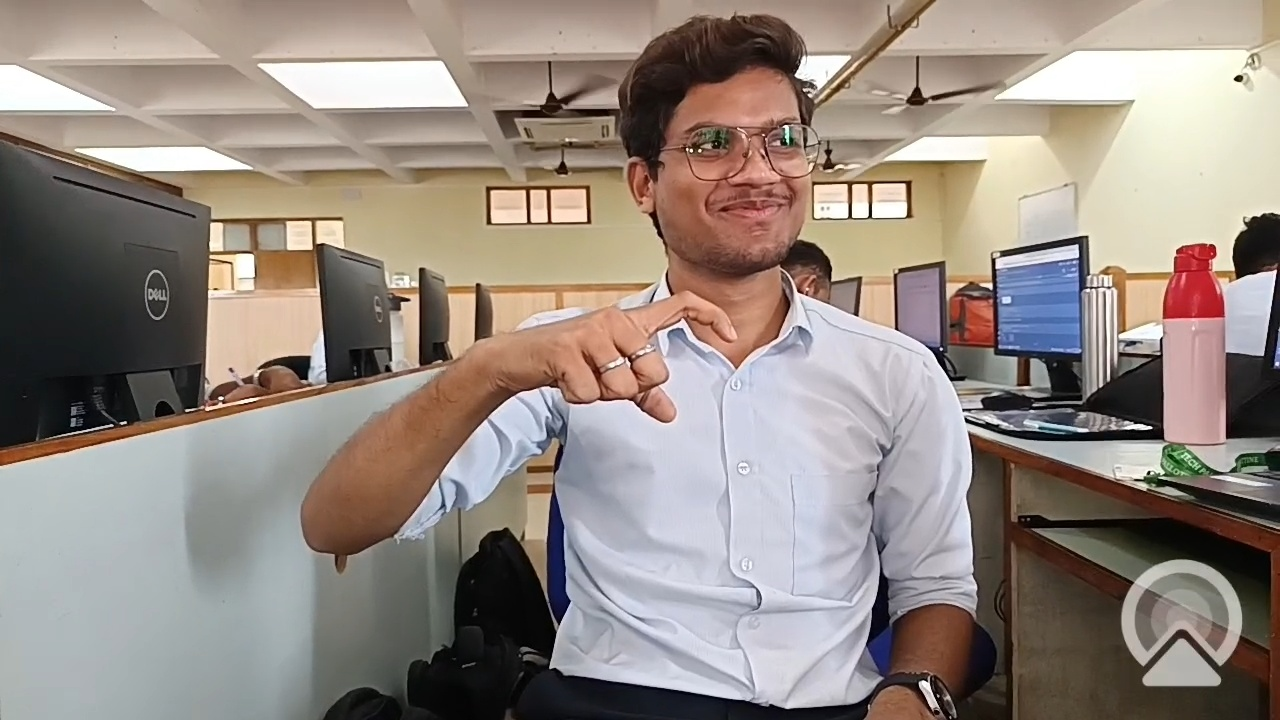C: (515, 251, 799, 489)
